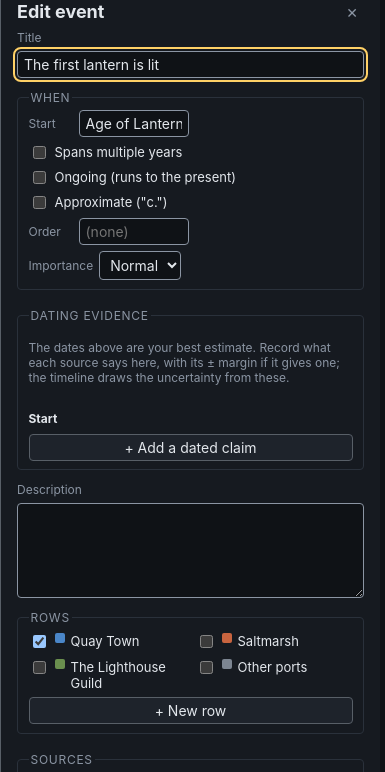
Test: event editor with a calendar plugin › a date it can't read stops the save and gives an example in its words
Replace the text in the field labelled "Start" with "412 AT" at [134, 123], box [78,110,188,137]
(page scrolled)
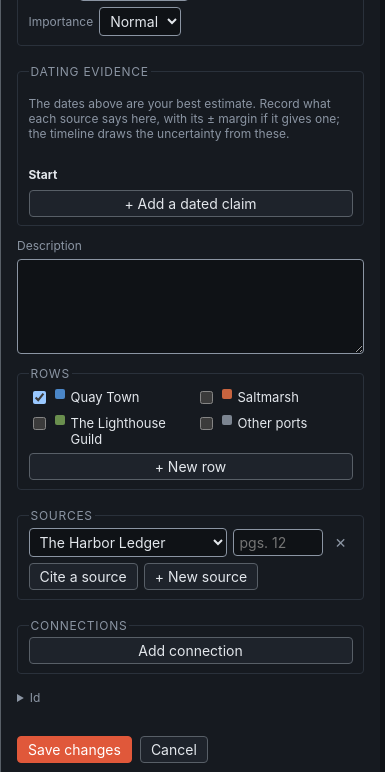
Click the button "Save changes".
click(74, 750)  # box [17,736,132,763]
(page scrolled)
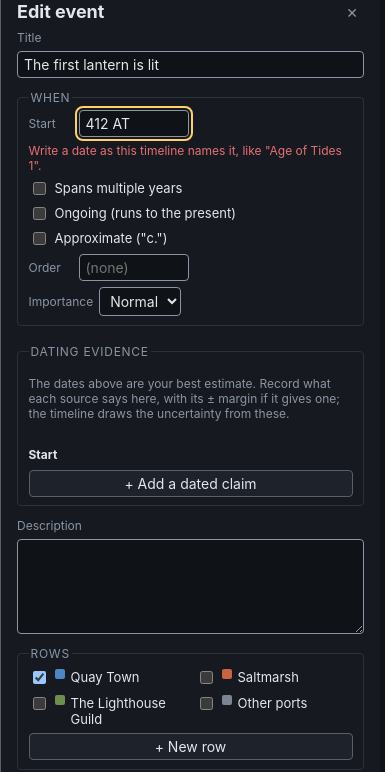
Now the message shows "Write a date as this timeline names it, like \"Age of Tides 1\"", box [28,143,342,173]
